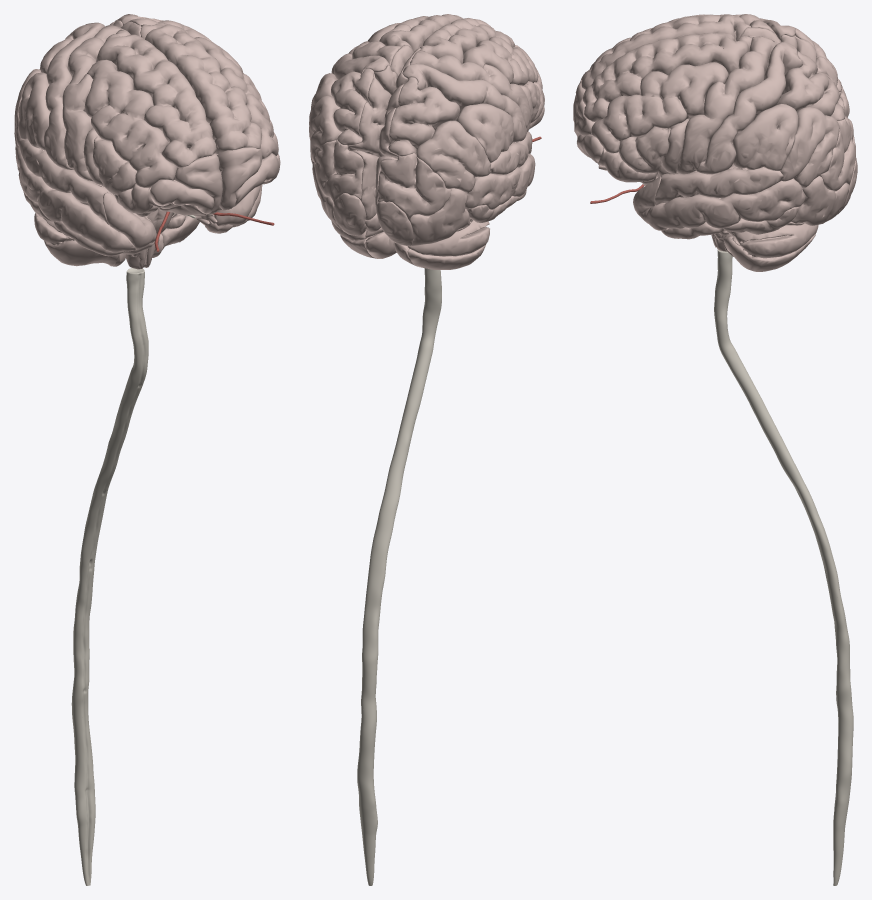
Rendered from adult_female.nervous.LOD0.glb.
3 renders of one model, left to right at view 1: azimuth 30°, elevation 25°; view 2: azimuth 150°, elevation 25°; view 3: azimuth 270°, elevation 25°, orthographic. The views are drawn at different scales.
Parts seen in each view (by area): view 1: ADULT.FEMALE.NERVOUS.SUPERIOR_FRONTAL_GYRUS.R, ADULT.FEMALE.NERVOUS.MIDDLE_FRONTAL_GYRUS.R, ADULT.FEMALE.NERVOUS.SUPERIOR_FRONTAL_GYRUS.L, ADULT.FEMALE.NERVOUS.PRECENTRAL_GYRUS.R, ADULT.FEMALE.NERVOUS.MIDDLE_TEMPORAL_GYRUS.R, ADULT.FEMALE.NERVOUS.POSTCENTRAL_GYRUS.R, ADULT.FEMALE.NERVOUS.SUPERIOR_TEMPORAL_GYRUS.R, ADULT.FEMALE.NERVOUS.MIDDLE_FRONTAL_GYRUS.L, ADULT.FEMALE.NERVOUS.SUPRAMARGINAL_GYRUS.R, ADULT.FEMALE.NERVOUS.ROSTRAL_GYRUS.L, ADULT.FEMALE.NERVOUS.LATERAL_HEMISPHERE_OF_CEREBELLUM.R, ADULT.FEMALE.NERVOUS.INFERIOR_FRONTAL_GYRUS_TRIANGULAR_PART. (+12 smaller); view 2: ADULT.FEMALE.NERVOUS.ANGULAR_GYRUS.R, ADULT.FEMALE.NERVOUS.SUPRAPARIETAL_LOBULE.R, ADULT.FEMALE.NERVOUS.SUPERIOR_OCCIPITAL_GYRUS.R, ADULT.FEMALE.NERVOUS.POSTCENTRAL_GYRUS.R, ADULT.FEMALE.NERVOUS.LATERAL_HEMISPHERE_OF_CEREBELLUM.R, ADULT.FEMALE.NERVOUS.SUPERIOR_OCCIPITAL_GYRUS.L, ADULT.FEMALE.NERVOUS.PRECENTRAL_GYRUS.R, ADULT.FEMALE.NERVOUS.SUPRAPARIETAL_LOBULE.L, ADULT.FEMALE.NERVOUS.SUPRAMARGINAL_GYRUS.R, ADULT.FEMALE.NERVOUS.MIDDLE_FRONTAL_GYRUS.R, ADULT.FEMALE.NERVOUS.SUPERIOR_FRONTAL_GYRUS.R, ADULT.FEMALE.NERVOUS.INFERIOR_OCCIPITAL_GYRUS.R (+21 smaller); view 3: ADULT.FEMALE.NERVOUS.MIDDLE_FRONTAL_GYRUS.L, ADULT.FEMALE.NERVOUS.SUPERIOR_FRONTAL_GYRUS.L, ADULT.FEMALE.NERVOUS.MIDDLE_TEMPORAL_GYRUS.L, ADULT.FEMALE.NERVOUS.PRECENTRAL_GYRUS.L, ADULT.FEMALE.NERVOUS.POSTCENTRAL_GYRUS.L, ADULT.FEMALE.NERVOUS.SUPRAMARGINAL_GYRUS.L, ADULT.FEMALE.NERVOUS.ANGULAR_GYRUS.L, ADULT.FEMALE.NERVOUS.SUPERIOR_TEMPORAL_GYRUS.L, ADULT.FEMALE.NERVOUS.LATERAL_HEMISPHERE_OF_CEREBELLUM.L, ADULT.FEMALE.NERVOUS.SUPERIOR_FRONTAL_GYRUS.R, ADULT.FEMALE.NERVOUS.SUPRAPARIETAL_LOBULE.L, ADULT.FEMALE.NERVOUS.INFERIOR_FRONTAL_GYRUS_TRIANGULAR_PART. (+7 smaller).
Part boxes in pixels (left/top/right/bottom): ADULT.FEMALE.NERVOUS.SUPERIOR_FRONTAL_GYRUS.R: left=96, top=30, right=216, bottom=168; ADULT.FEMALE.NERVOUS.MIDDLE_FRONTAL_GYRUS.R: left=84, top=59, right=177, bottom=187; ADULT.FEMALE.NERVOUS.SUPERIOR_FRONTAL_GYRUS.L: left=140, top=23, right=261, bottom=154; ADULT.FEMALE.NERVOUS.PRECENTRAL_GYRUS.R: left=62, top=25, right=120, bottom=181; ADULT.FEMALE.NERVOUS.MIDDLE_TEMPORAL_GYRUS.R: left=15, top=147, right=135, bottom=252; ADULT.FEMALE.NERVOUS.POSTCENTRAL_GYRUS.R: left=43, top=22, right=104, bottom=169; ADULT.FEMALE.NERVOUS.SUPERIOR_TEMPORAL_GYRUS.R: left=18, top=139, right=112, bottom=224; ADULT.FEMALE.NERVOUS.MIDDLE_FRONTAL_GYRUS.L: left=194, top=37, right=278, bottom=158; ADULT.FEMALE.NERVOUS.SUPRAMARGINAL_GYRUS.R: left=18, top=72, right=50, bottom=150; ADULT.FEMALE.NERVOUS.ROSTRAL_GYRUS.L: left=217, top=147, right=262, bottom=210; ADULT.FEMALE.NERVOUS.LATERAL_HEMISPHERE_OF_CEREBELLUM.R: left=34, top=212, right=118, bottom=266; ADULT.FEMALE.NERVOUS.INFERIOR_FRONTAL_GYRUS_TRIANGULAR_PART.: left=92, top=137, right=136, bottom=195; ADULT.FEMALE.NERVOUS.ANGULAR_GYRUS.R: left=416, top=120, right=490, bottom=192; ADULT.FEMALE.NERVOUS.SUPRAPARIETAL_LOBULE.R: left=388, top=77, right=459, bottom=156; ADULT.FEMALE.NERVOUS.SUPERIOR_OCCIPITAL_GYRUS.R: left=377, top=152, right=451, bottom=220; ADULT.FEMALE.NERVOUS.POSTCENTRAL_GYRUS.R: left=402, top=63, right=527, bottom=142; ADULT.FEMALE.NERVOUS.LATERAL_HEMISPHERE_OF_CEREBELLUM.R: left=407, top=220, right=489, bottom=269; ADULT.FEMALE.NERVOUS.SUPERIOR_OCCIPITAL_GYRUS.L: left=315, top=139, right=363, bottom=204; ADULT.FEMALE.NERVOUS.PRECENTRAL_GYRUS.R: left=410, top=50, right=530, bottom=131; ADULT.FEMALE.NERVOUS.SUPRAPARIETAL_LOBULE.L: left=331, top=68, right=373, bottom=145; ADULT.FEMALE.NERVOUS.SUPRAMARGINAL_GYRUS.R: left=456, top=103, right=513, bottom=162; ADULT.FEMALE.NERVOUS.MIDDLE_FRONTAL_GYRUS.R: left=463, top=36, right=542, bottom=88; ADULT.FEMALE.NERVOUS.SUPERIOR_FRONTAL_GYRUS.R: left=420, top=18, right=519, bottom=63; ADULT.FEMALE.NERVOUS.INFERIOR_OCCIPITAL_GYRUS.R: left=409, top=188, right=472, bottom=246; ADULT.FEMALE.NERVOUS.MIDDLE_FRONTAL_GYRUS.L: left=591, top=62, right=728, bottom=153; ADULT.FEMALE.NERVOUS.SUPERIOR_FRONTAL_GYRUS.L: left=583, top=33, right=752, bottom=122; ADULT.FEMALE.NERVOUS.MIDDLE_TEMPORAL_GYRUS.L: left=640, top=178, right=805, bottom=230; ADULT.FEMALE.NERVOUS.PRECENTRAL_GYRUS.L: left=676, top=36, right=776, bottom=174; ADULT.FEMALE.NERVOUS.POSTCENTRAL_GYRUS.L: left=696, top=42, right=802, bottom=174; ADULT.FEMALE.NERVOUS.SUPRAMARGINAL_GYRUS.L: left=732, top=103, right=798, bottom=170; ADULT.FEMALE.NERVOUS.ANGULAR_GYRUS.L: left=780, top=107, right=839, bottom=188; ADULT.FEMALE.NERVOUS.SUPERIOR_TEMPORAL_GYRUS.L: left=654, top=167, right=783, bottom=205; ADULT.FEMALE.NERVOUS.LATERAL_HEMISPHERE_OF_CEREBELLUM.L: left=719, top=223, right=818, bottom=271; ADULT.FEMALE.NERVOUS.SUPERIOR_FRONTAL_GYRUS.R: left=581, top=14, right=751, bottom=89; ADULT.FEMALE.NERVOUS.SUPRAPARIETAL_LOBULE.L: left=776, top=51, right=844, bottom=120; ADULT.FEMALE.NERVOUS.INFERIOR_FRONTAL_GYRUS_TRIANGULAR_PART.: left=618, top=126, right=670, bottom=173.
Bounding box in the file's own units: 0.1364 × 0.5552 × 0.167.
